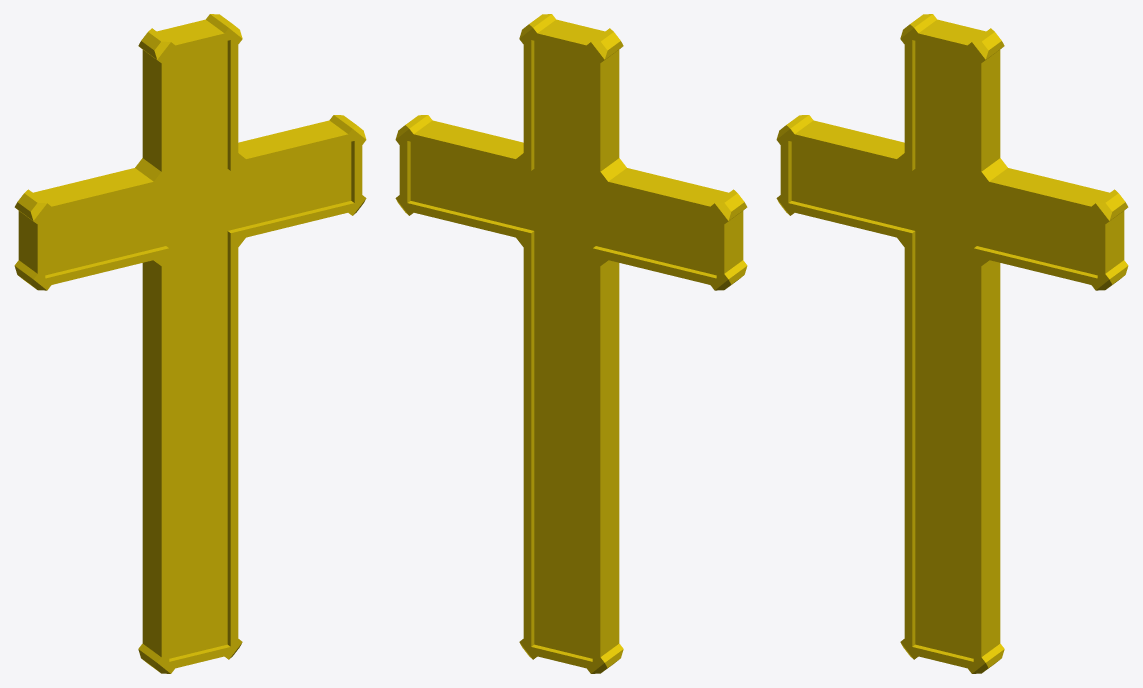
File: Cross of Ressurection.fbx
3 views of the same model, side by side, from view 1: azimuth 30°, elevation 25°; view 2: azimuth 150°, elevation 25°; view 3: azimuth 330°, elevation 25° (orthographic).
Visible parts, largest first — view 1: Cross_Of_Resurection; view 2: Cross_Of_Resurection; view 3: Cross_Of_Resurection.
Boxes of the visible parts, left/top/right/bottom form: Cross_Of_Resurection: left=14, top=14, right=366, bottom=673; Cross_Of_Resurection: left=395, top=14, right=747, bottom=673; Cross_Of_Resurection: left=776, top=14, right=1128, bottom=673.
Size of the model in its own units: 1.01 by 1.83 by 0.0996.
